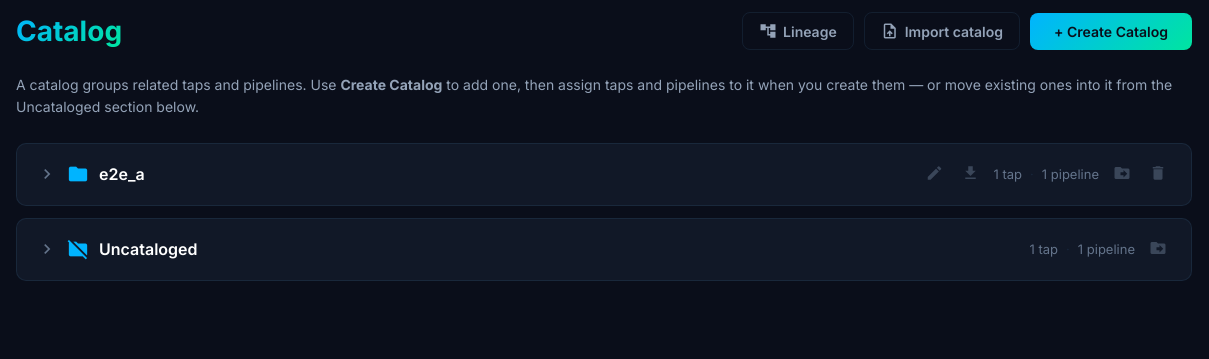
Test: DataCatalogComponent — catalog rename and delete › rename 400 (label rule / reserved name) shows the server message
Check: the element with class "catalog-card" showing "e2e_a 1 tap · 1 pipeline" is shown, box [16,143,1192,206]
Click the button with class "rename-catalog-btn": x=935, y=174 [922,160,948,189]
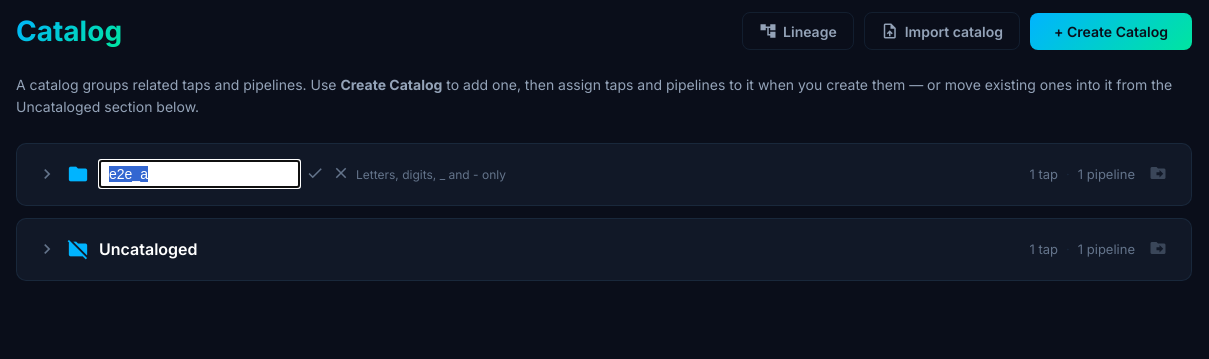
Check: the field with class "rename-catalog-input" is shown
Replace the text in the field with class "rename-catalog-input" with "e2e_b": x=200, y=174 [99,160,300,188]
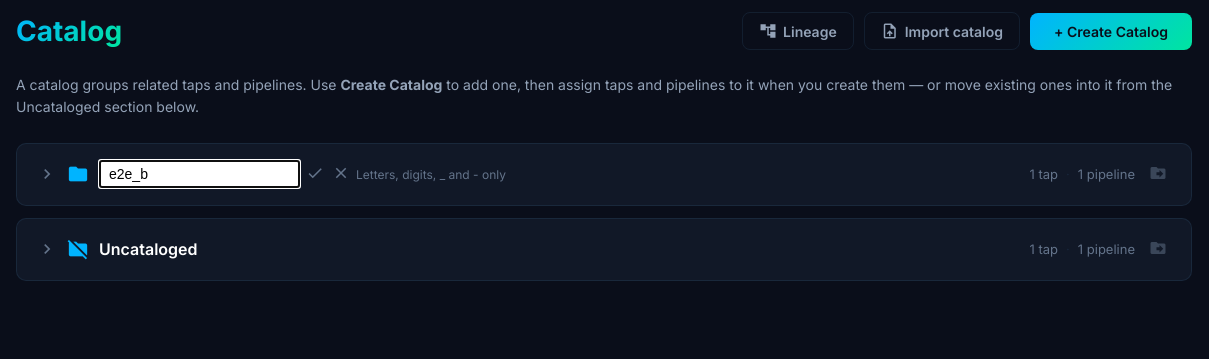
Press Enter in the field with class "rename-catalog-input", box [99,160,300,188]
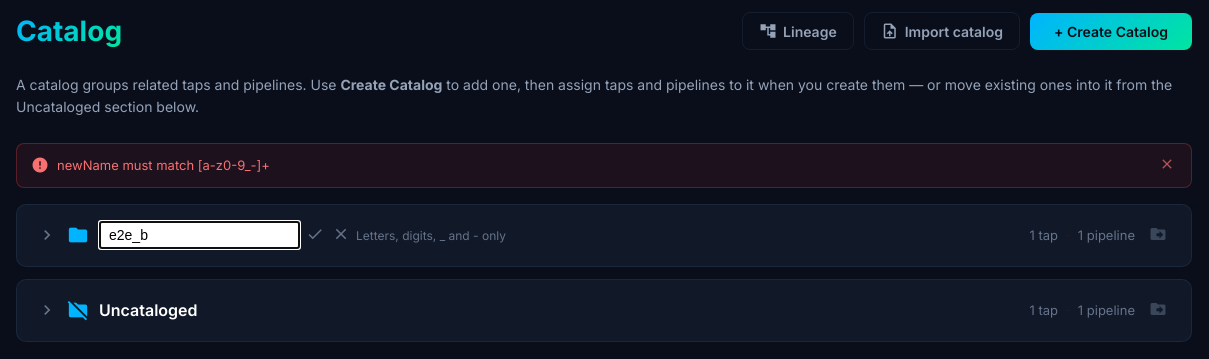
Check: the element with class "move-error-banner" reads "newName must match [a-z0-9_-]+", box [57,157,270,173]
